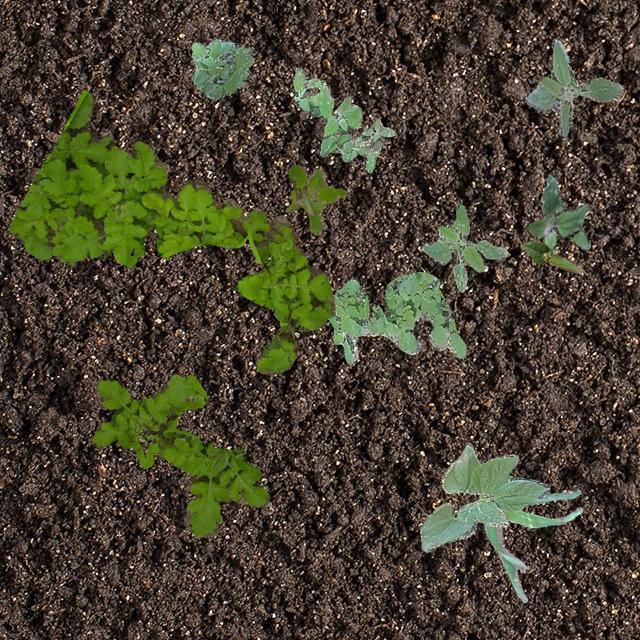crop: (419, 444, 548, 552), (483, 488, 581, 602), (520, 240, 582, 272)
weed: (9, 90, 334, 373), (90, 372, 268, 536), (326, 270, 466, 364), (292, 66, 394, 172), (524, 38, 622, 136), (420, 204, 508, 290), (526, 173, 590, 250), (286, 163, 346, 234), (190, 37, 252, 100)
